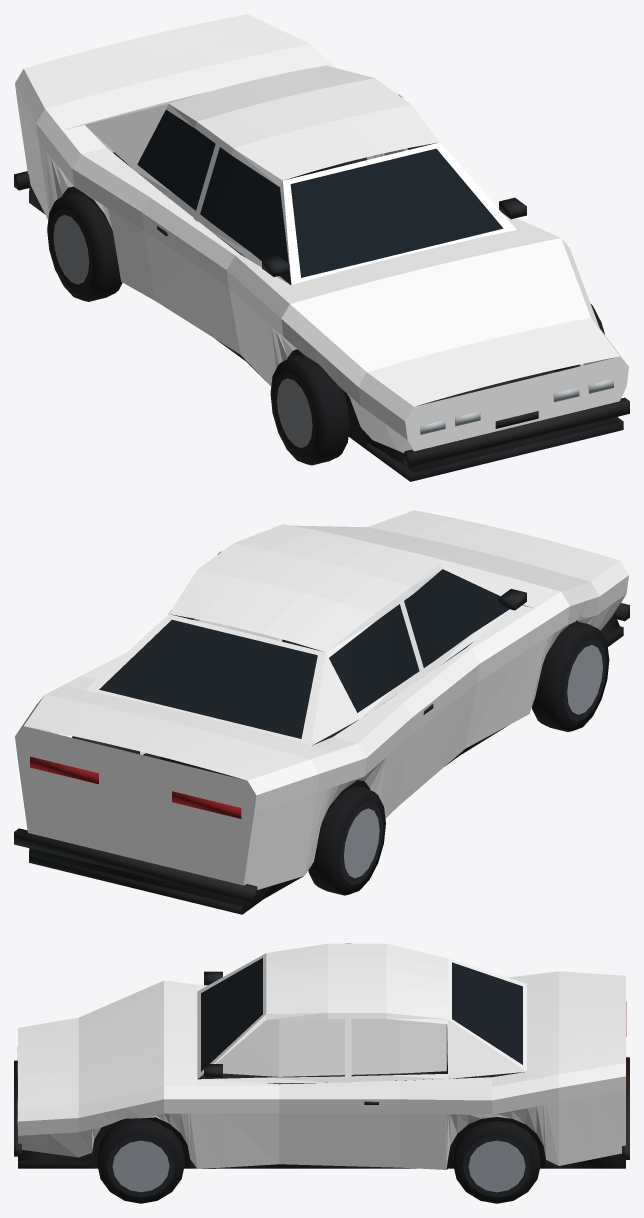
The model's file is sanga_pulsar.glb.
The picture shows the model from 3 angles, top to bottom: view 1: azimuth 30°, elevation 25°; view 2: azimuth 150°, elevation 25°; view 3: azimuth 270°, elevation 25°; orthographic projection. The views are drawn at different scales.
Parts seen in each view (by area): view 1: Body_Paint, Body_Details, Mount_FrontLeft_Wheel_Details, Mount_RearLeft_Wheel_Details; view 2: Body_Paint, Body_Details, Mount_FrontLeft_Wheel_Details, Mount_RearLeft_Wheel_Details; view 3: Body_Paint, Body_Details, Mount_FrontRight_Wheel_Details, Mount_RearRight_Wheel_Details.
Part boxes in pixels (box(x1,y1,x2,y2)): Body_Paint: box(15, 14, 628, 452); Body_Details: box(14, 109, 629, 481); Mount_FrontLeft_Wheel_Details: box(270, 354, 349, 465); Mount_RearLeft_Wheel_Details: box(47, 192, 122, 301); Body_Paint: box(15, 510, 628, 889); Body_Details: box(14, 569, 629, 914); Mount_FrontLeft_Wheel_Details: box(532, 621, 609, 731); Mount_RearLeft_Wheel_Details: box(308, 785, 385, 895); Body_Paint: box(18, 943, 625, 1169); Body_Details: box(14, 958, 629, 1169); Mount_FrontRight_Wheel_Details: box(97, 1118, 184, 1203); Mount_RearRight_Wheel_Details: box(453, 1121, 540, 1203).
Bounding box in the file's own units: 1.85 × 1.31 × 4.2.
Materials: 2 (1 with a texture image).
